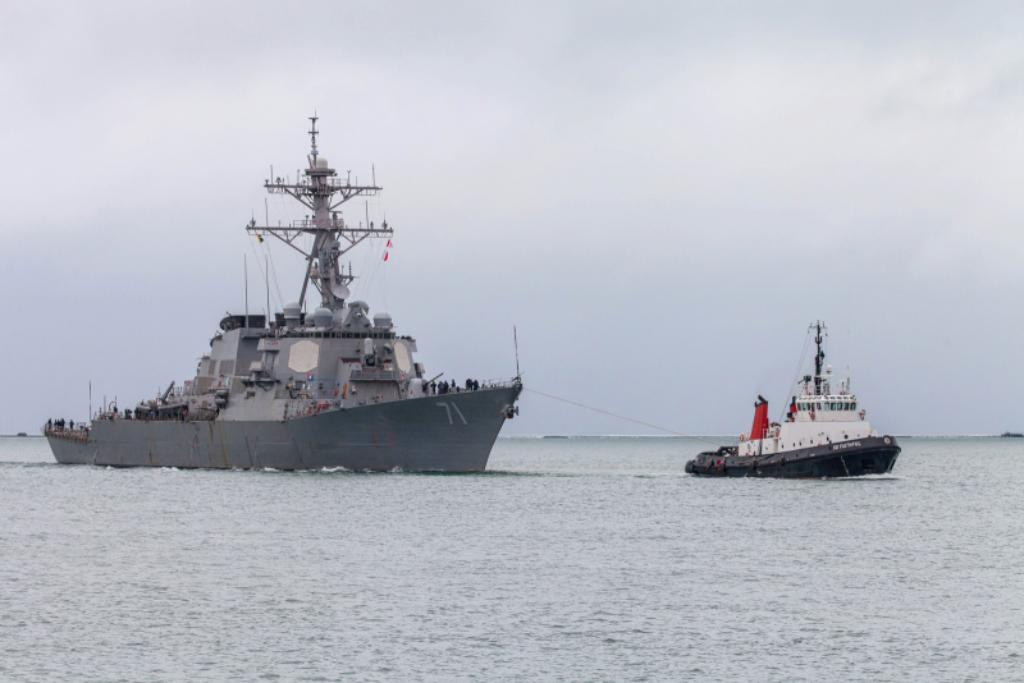Warship: (36, 105, 528, 481)
